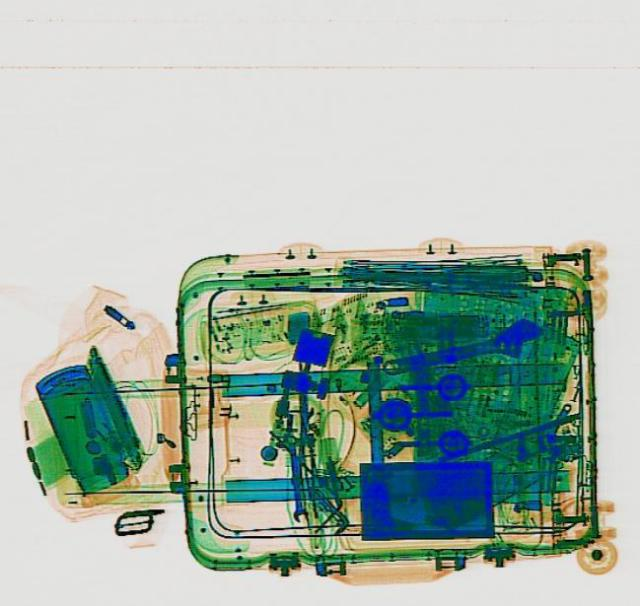Wrench: (377, 312, 548, 385), (286, 447, 308, 520)
